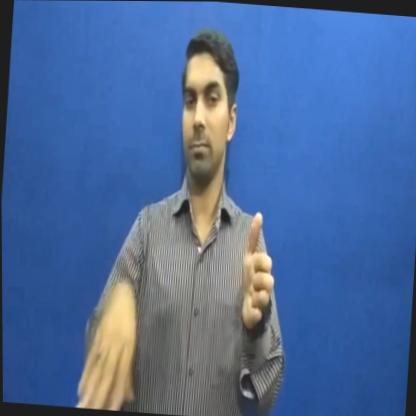Expensive: (61, 190, 302, 416)
